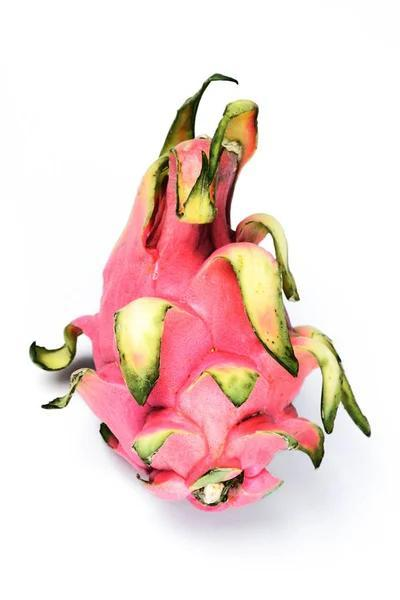dragon-fruit: (88, 191, 295, 515)
